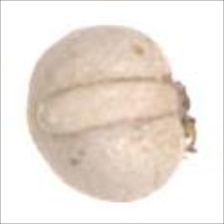L5: (35, 76, 181, 141), (168, 71, 200, 158), (25, 83, 53, 147)
L6: (22, 25, 201, 205)
